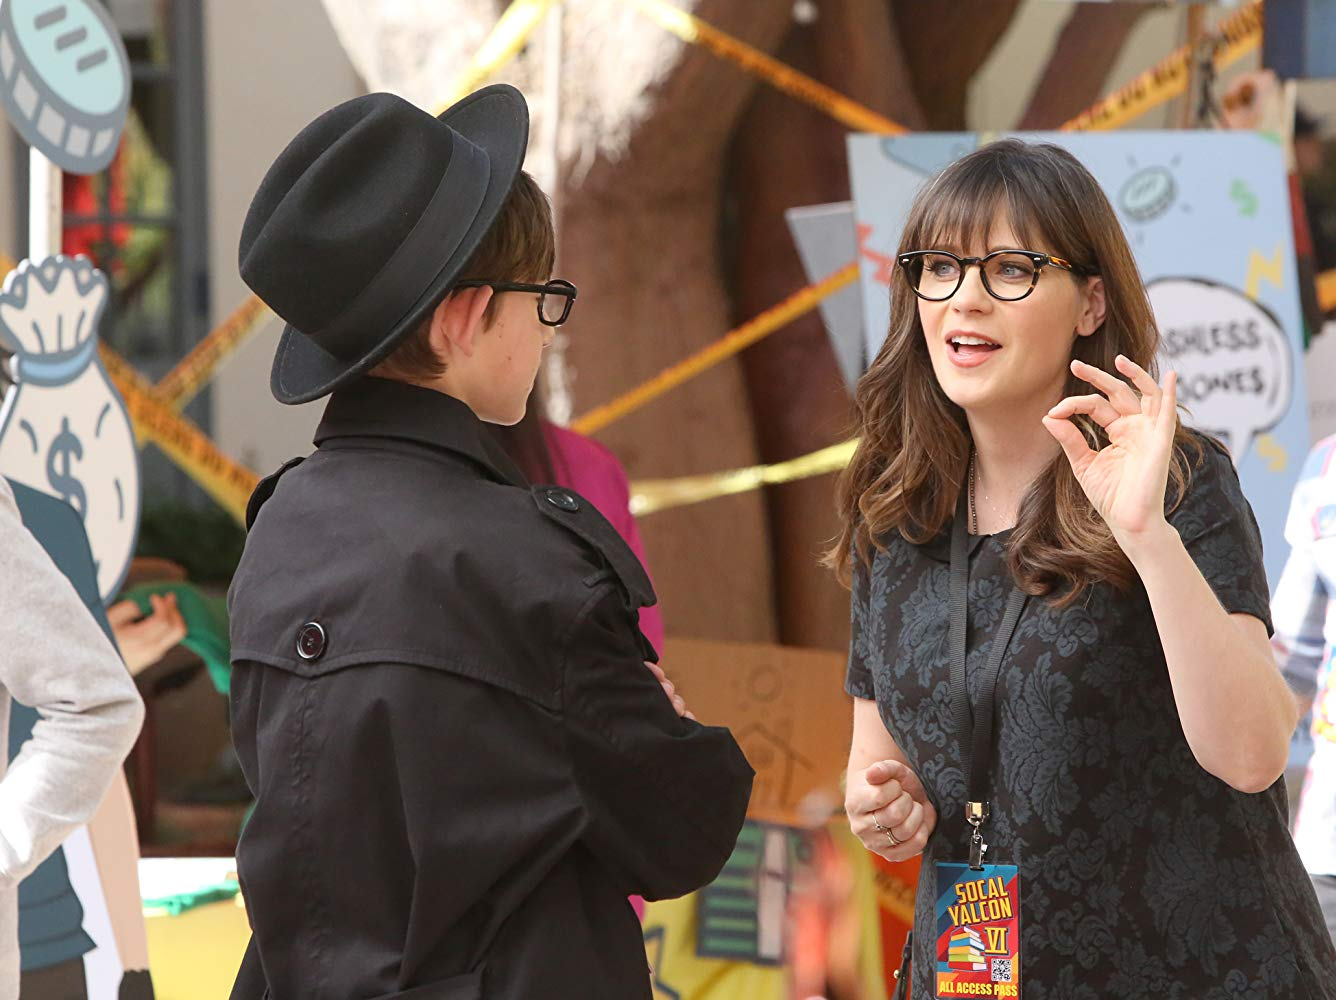person: (823, 137, 1328, 994), (216, 78, 685, 997)
